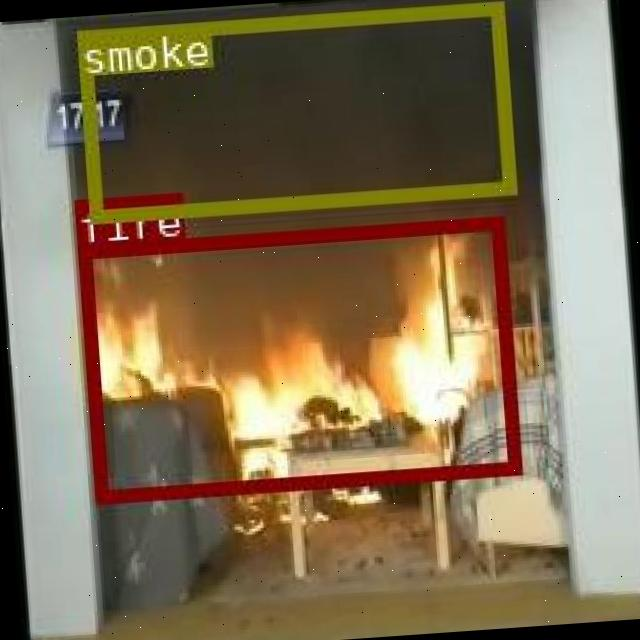fire: (77, 215, 520, 501)
smoke: (76, 0, 512, 220)
